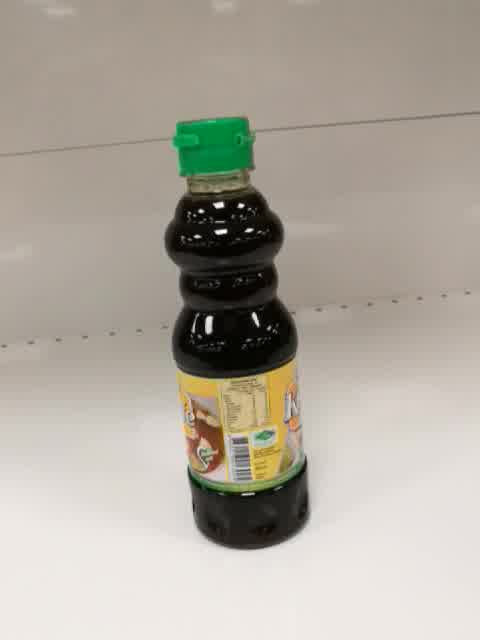cookingoil: (161, 113, 311, 551)
